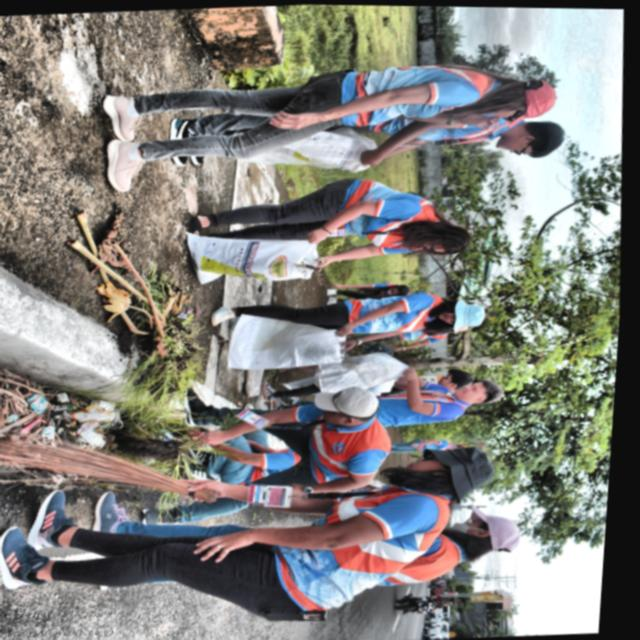clogged_drains: (0, 283, 146, 499)
